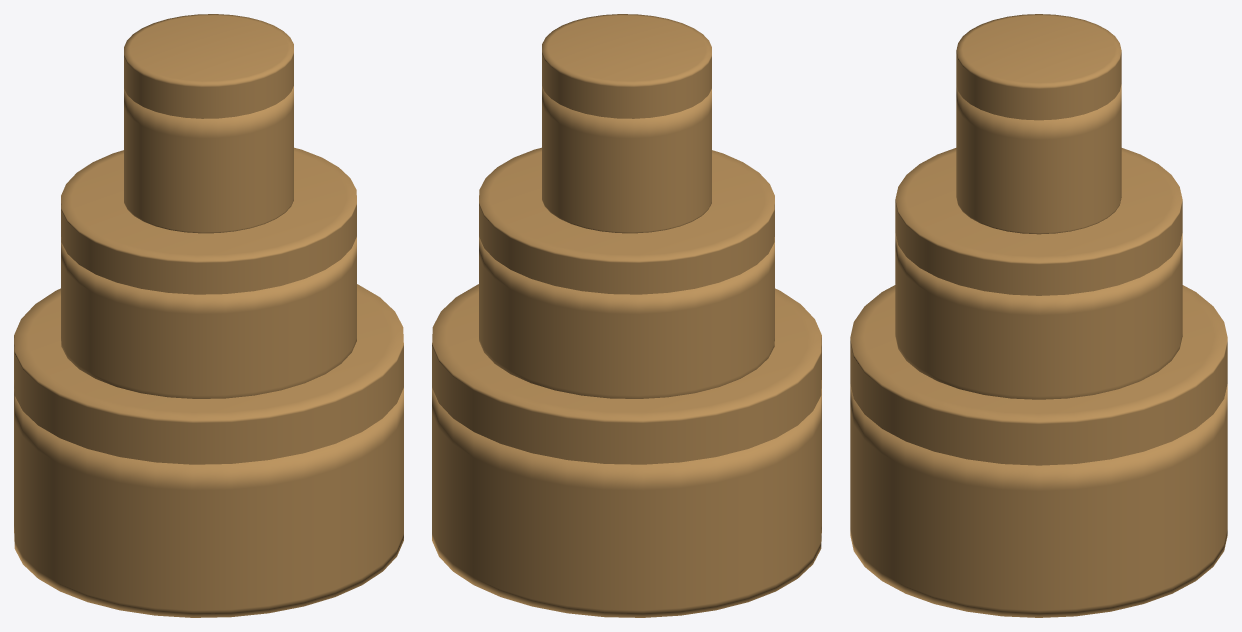
File: 3-tier-caramel-none-none.glb
3 views of the same model, side by side, from view 1: azimuth 30°, elevation 25°; view 2: azimuth 150°, elevation 25°; view 3: azimuth 270°, elevation 25° (orthographic).
Parts seen in each view (by area): view 1: Cylinder.022, Cylinder.014, Cylinder.021; view 2: Cylinder.022, Cylinder.014, Cylinder.021; view 3: Cylinder.022, Cylinder.014, Cylinder.021.
Part boxes in pixels (x1=…): Cylinder.022: x1=14, y1=284, x2=403, y2=617; Cylinder.014: x1=61, y1=147, x2=356, y2=398; Cylinder.021: x1=124, y1=14, x2=293, y2=233; Cylinder.022: x1=432, y1=284, x2=821, y2=617; Cylinder.014: x1=479, y1=147, x2=774, y2=398; Cylinder.021: x1=542, y1=14, x2=711, y2=233; Cylinder.022: x1=850, y1=285, x2=1227, y2=617; Cylinder.014: x1=895, y1=148, x2=1182, y2=399; Cylinder.021: x1=956, y1=14, x2=1121, y2=234.
Bounding box in the file's own units: 4.22 × 5.76 × 4.06.
